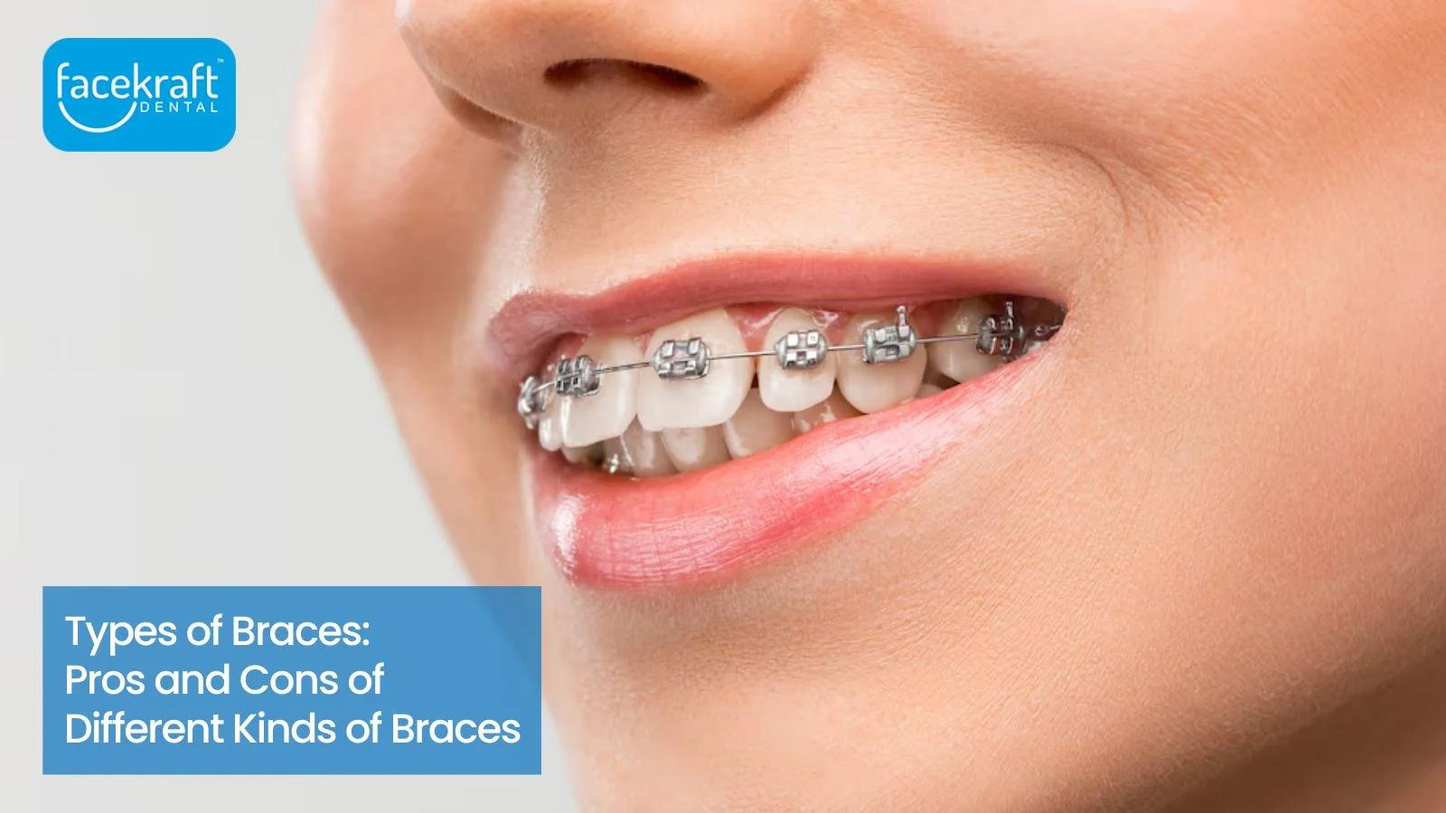Braces: (508, 303, 1048, 429)
